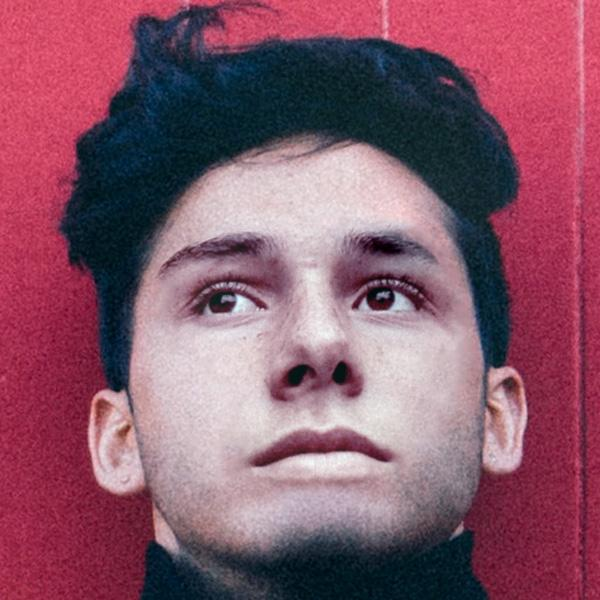Eyes: (169, 269, 278, 332), (339, 265, 441, 331)
